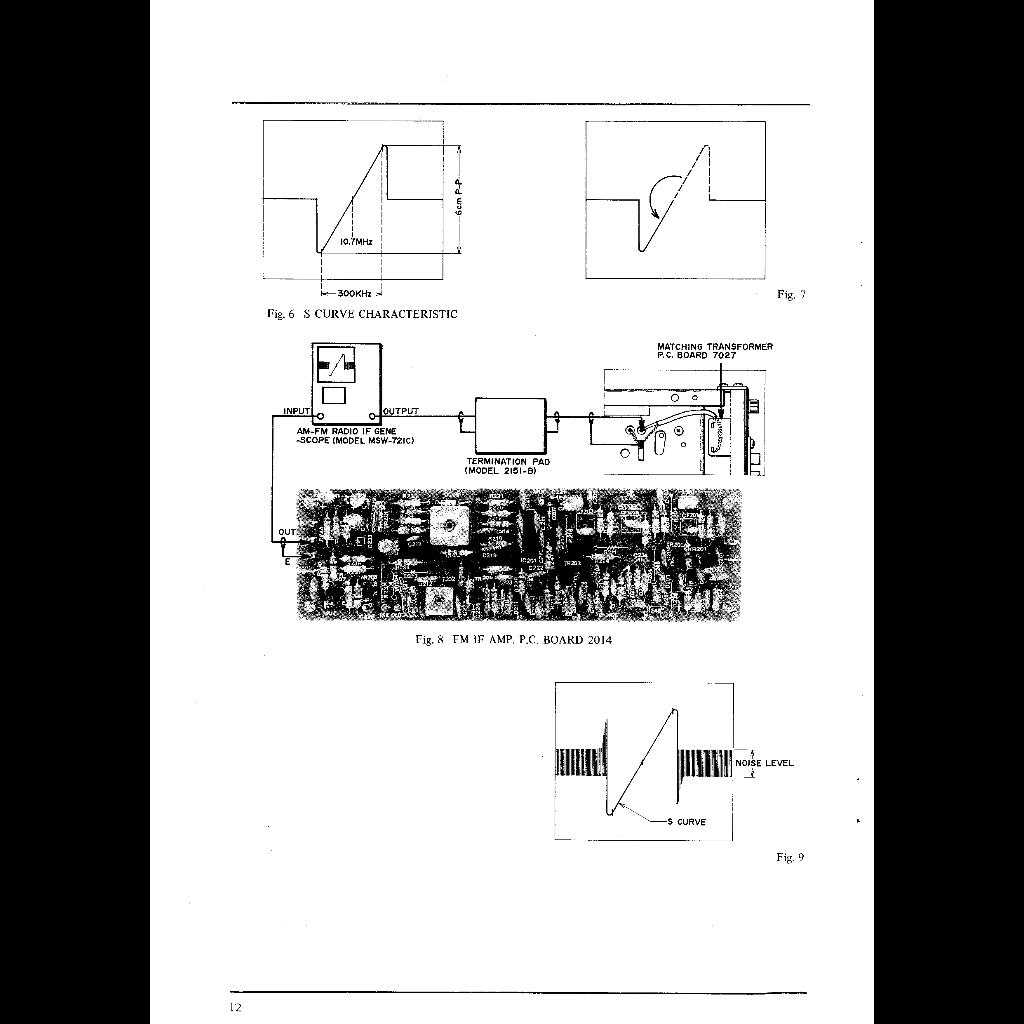Board: (260, 334, 784, 658)
